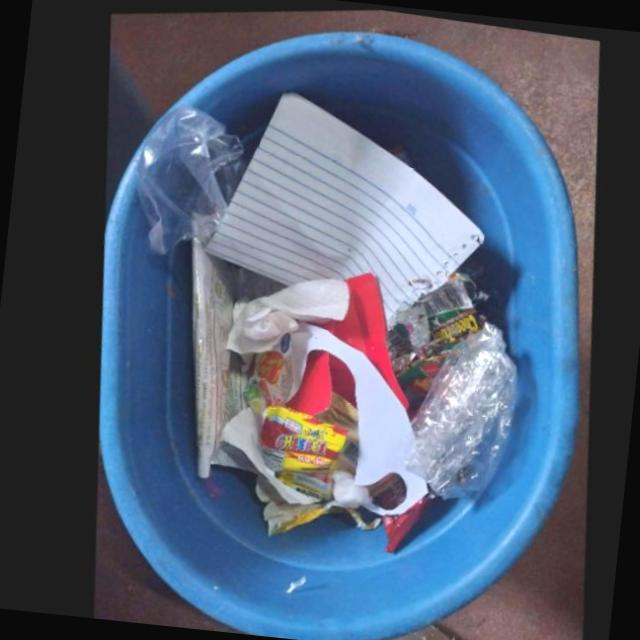bao_bi_thuc_pham: (256, 403, 345, 498), (254, 472, 343, 533), (418, 272, 471, 337), (400, 355, 443, 414)
giay: (279, 269, 428, 548), (206, 405, 329, 509), (225, 275, 342, 354)
tui_ni_long: (410, 317, 511, 495), (134, 106, 239, 252)
